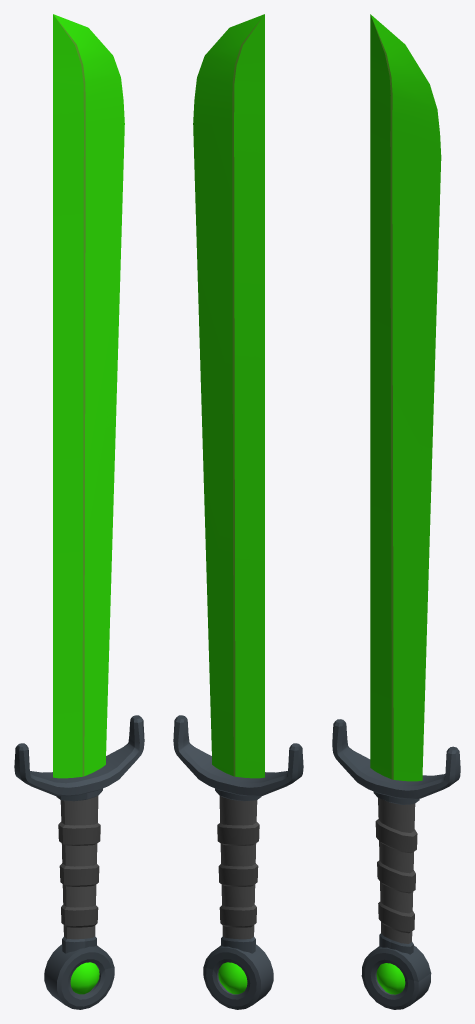
The model's file is SM_Sword09_Falchion_7Fantasy_Green.fbx.
3 views of the same model, side by side, from view 1: azimuth 30°, elevation 25°; view 2: azimuth 150°, elevation 25°; view 3: azimuth 330°, elevation 25° (orthographic).
Parts seen in each view (by area): view 1: Cube.355, Cylinder.482, Cube.356, Cylinder.483, Sphere.114; view 2: Cube.355, Cylinder.482, Cube.356, Cylinder.483, Sphere.114; view 3: Cube.355, Cylinder.482, Cube.356, Cylinder.483, Sphere.114.
Boxes of the visible parts, <box> form: Cube.355: <box>53,14,124,778</box>; Cylinder.482: <box>56,788,102,953</box>; Cube.356: <box>14,715,144,796</box>; Cylinder.483: <box>44,944,114,1009</box>; Sphere.114: <box>70,962,99,994</box>; Cube.355: <box>193,14,264,778</box>; Cylinder.482: <box>215,788,261,953</box>; Cube.356: <box>173,715,303,796</box>; Cylinder.483: <box>203,944,273,1009</box>; Sphere.114: <box>218,962,247,994</box>; Cube.355: <box>370,14,441,781</box>; Cylinder.482: <box>373,791,419,954</box>; Cube.356: <box>332,719,460,799</box>; Cylinder.483: <box>361,945,431,1009</box>; Sphere.114: <box>376,963,405,994</box>.
Size of the model in its own units: 0.1036 by 0.7919 by 0.0296.
